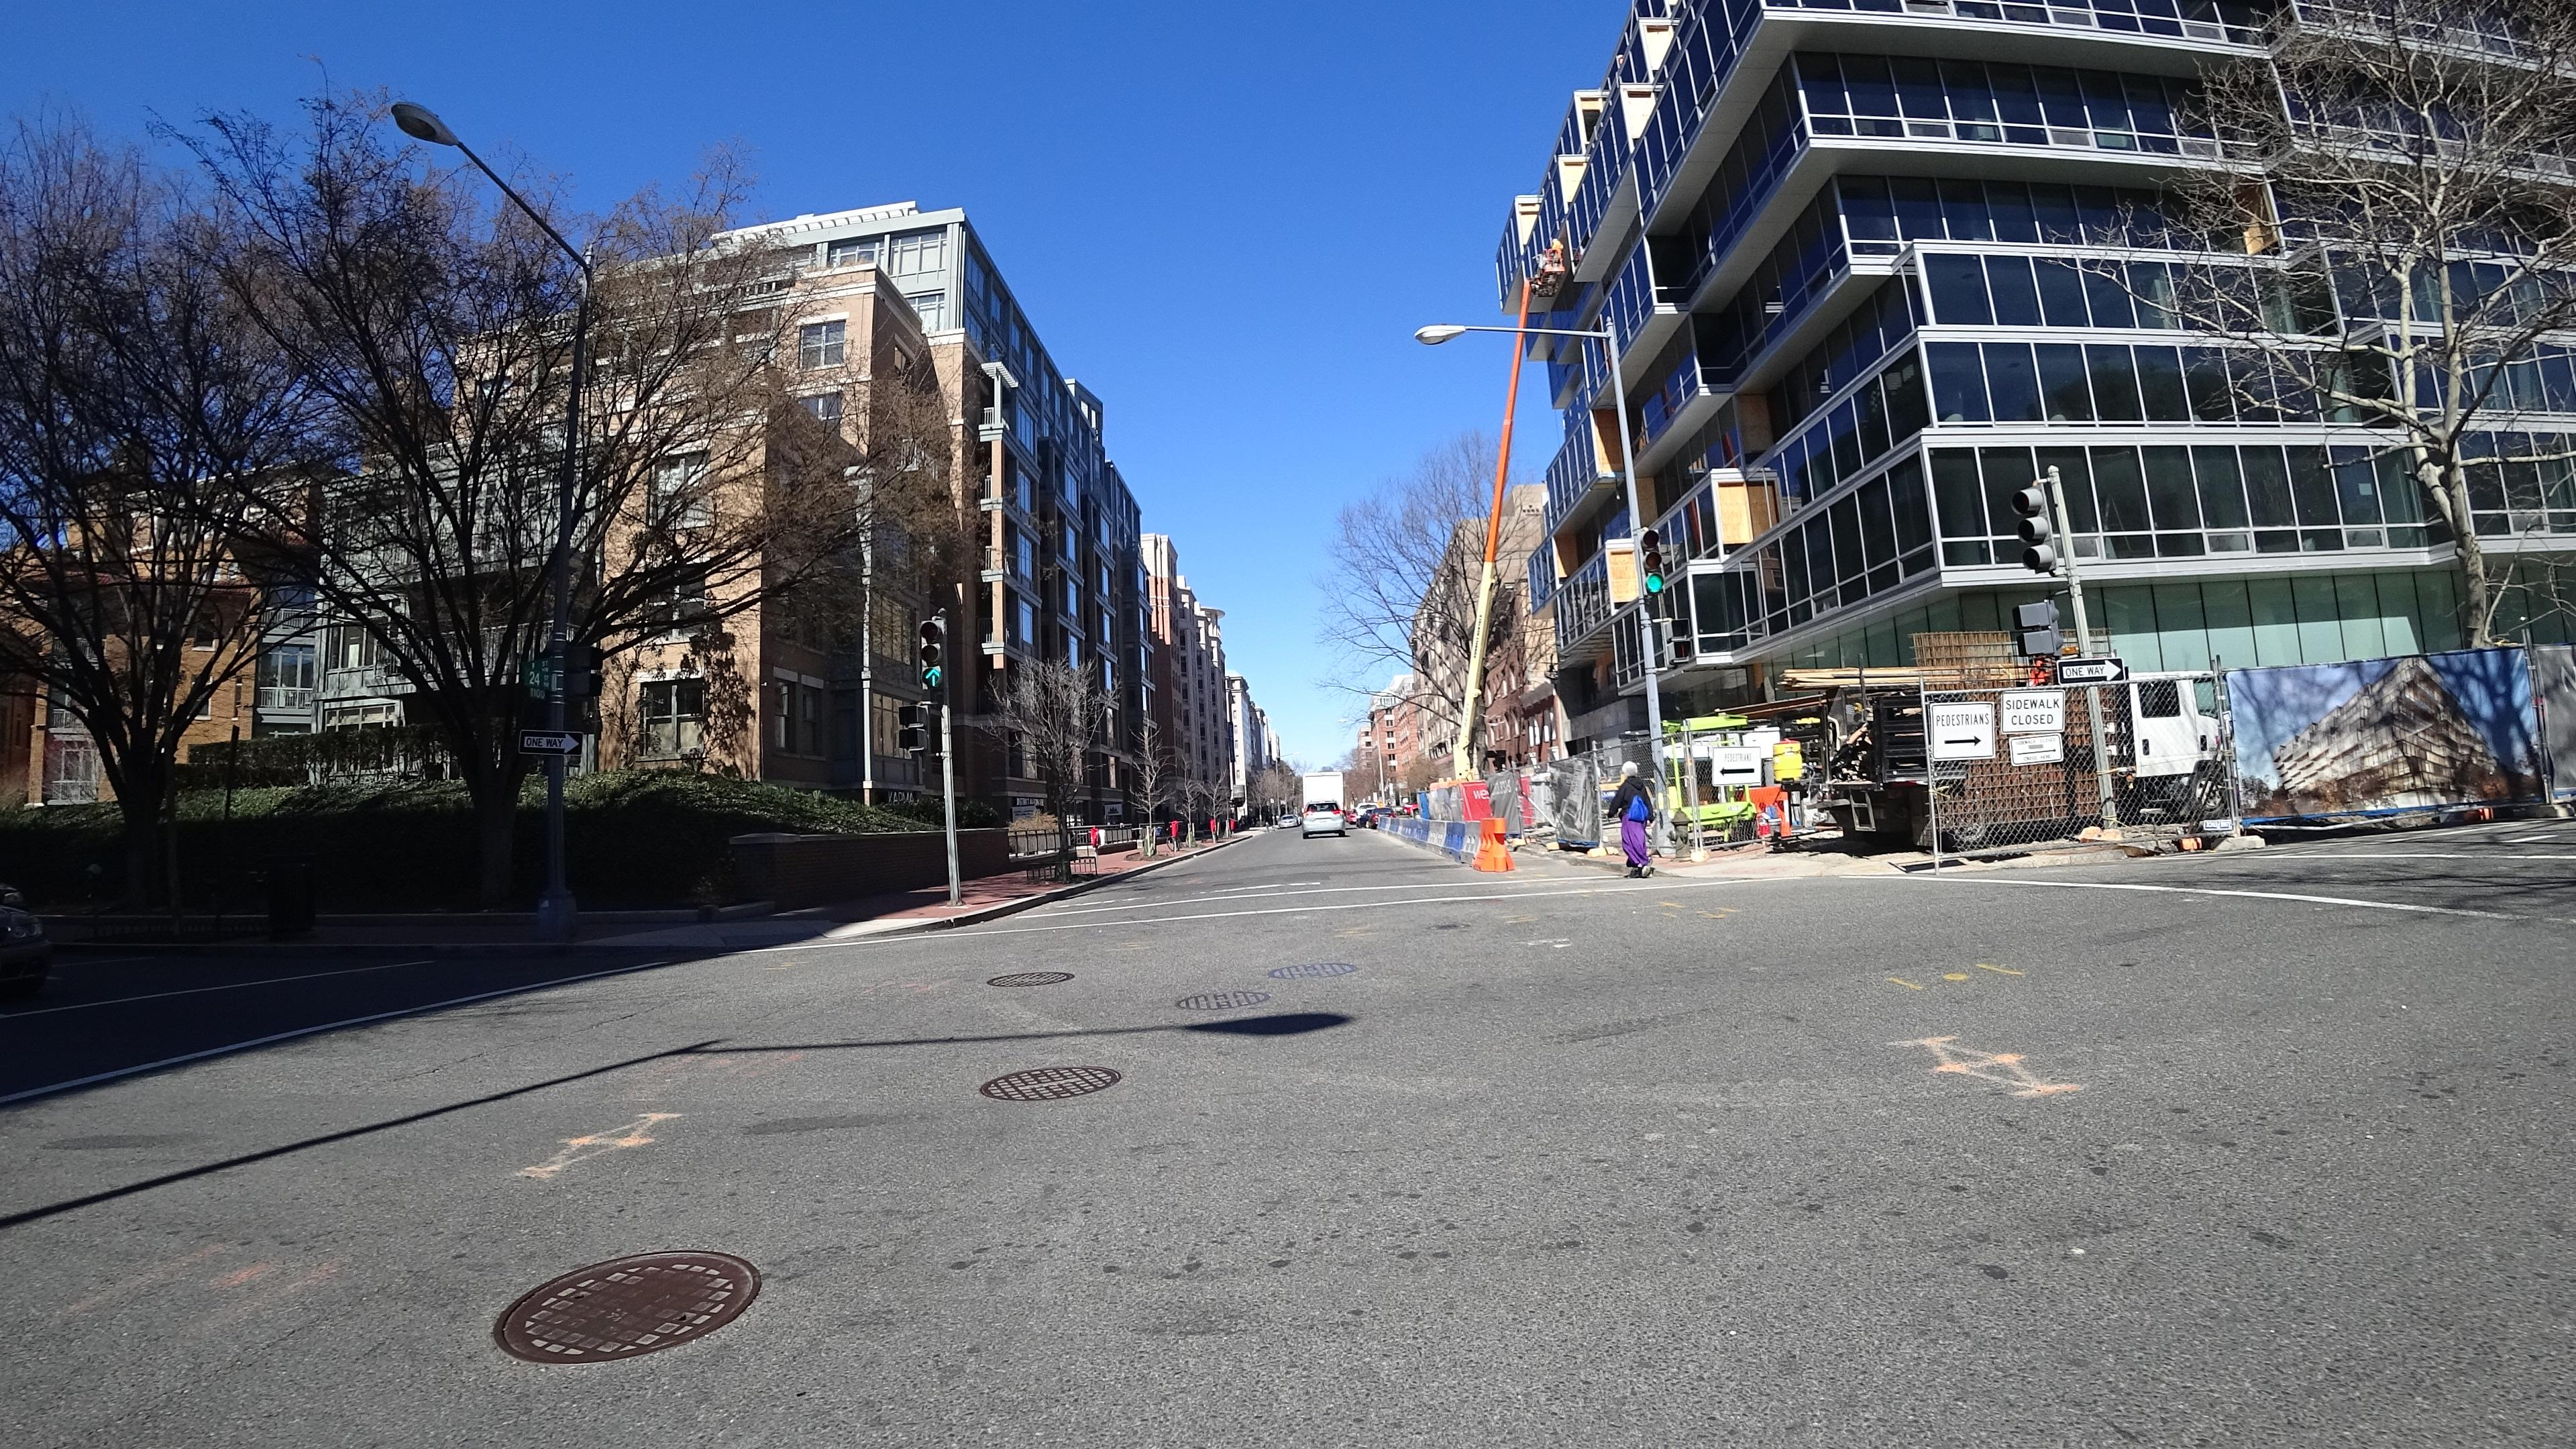vinyl banner: (2206, 653, 2576, 847)
